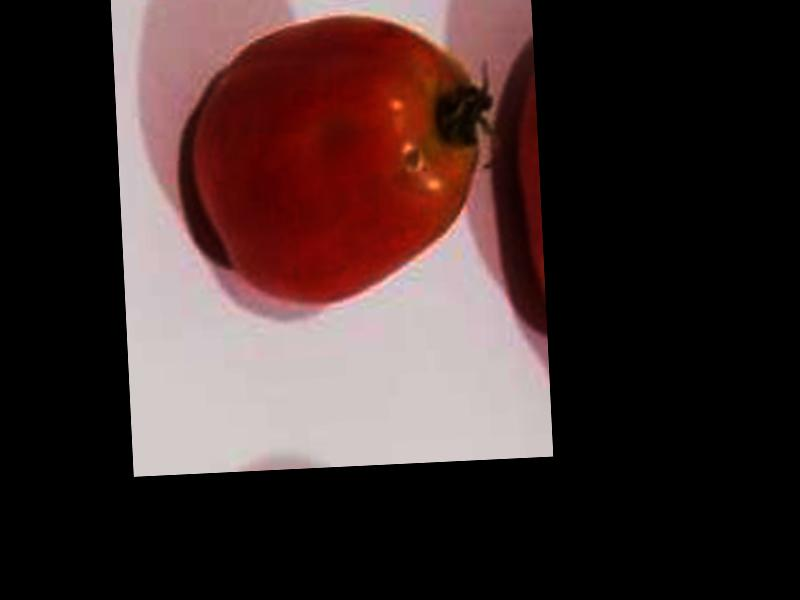Tomato: (192, 12, 489, 308)
